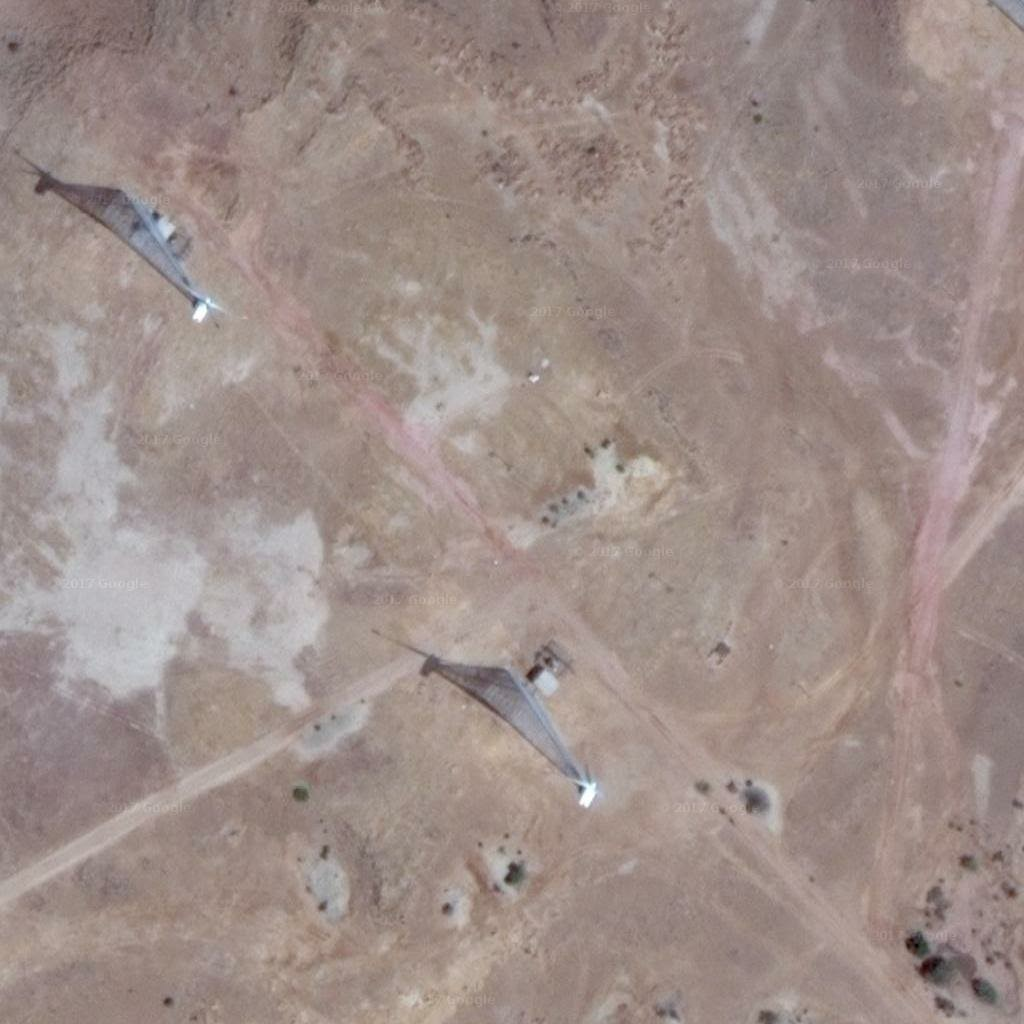Windmill: (21, 163, 211, 308)
